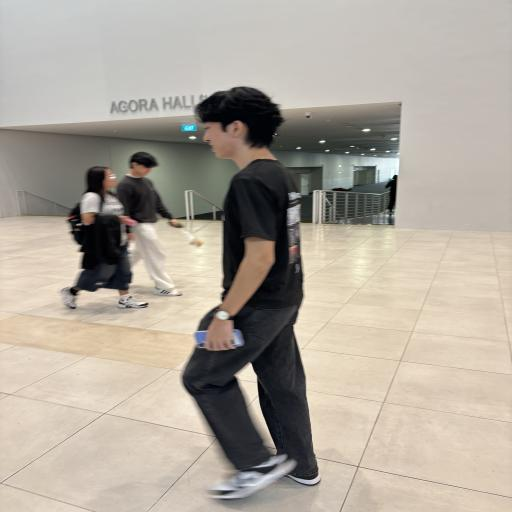person_left: (170, 72, 332, 508)
person_right: (60, 164, 148, 314), (114, 150, 186, 299)
